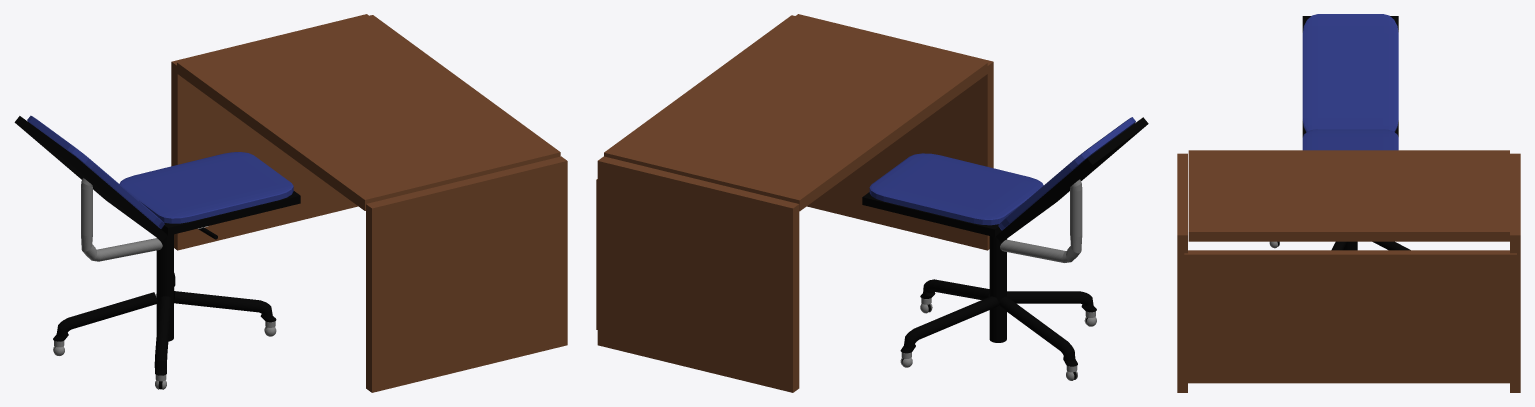
The model's file is NewDeskAndChair.fbx.
3 renders of one model, left to right at view 1: azimuth 30°, elevation 25°; view 2: azimuth 150°, elevation 25°; view 3: azimuth 270°, elevation 25°, orthographic. The views are drawn at different scales.
Visible parts, largest first — view 1: Cube.008, Cube.006, Cube.005, Cube.001, Cube.003, Cylinder.009, Cylinder.006, Cylinder.001, Cube.002, Cube, Cylinder.008, Cylinder.005; view 2: Cube.008, Cube.005, Cube.006, Cube.001, Cube.003, Cylinder.009, Cylinder.008, Cylinder.002, Cube.002, Cube, Cylinder.006, Cylinder.005 (+1 smaller); view 3: Cube.009, Cube.008, Cube.002, Cube.006, Cube.001, Cube.005.
Part boxes in pixels (left/top/right/bottom): Cube.008: left=177, top=15, right=560, bottom=210; Cube.006: left=366, top=156, right=567, bottom=392; Cube.005: left=171, top=14, right=368, bottom=250; Cube.001: left=119, top=152, right=293, bottom=223; Cube.003: left=14, top=116, right=166, bottom=241; Cylinder.009: left=81, top=178, right=162, bottom=261; Cylinder.006: left=53, top=292, right=157, bottom=341; Cylinder.001: left=173, top=291, right=276, bottom=322; Cube.002: left=27, top=115, right=164, bottom=228; Cube: left=161, top=191, right=300, bottom=235; Cylinder.008: left=156, top=234, right=173, bottom=341; Cylinder.005: left=154, top=296, right=171, bottom=375; Cube.008: left=604, top=15, right=987, bottom=211; Cube.005: left=597, top=156, right=799, bottom=392; Cube.006: left=796, top=14, right=993, bottom=250; Cube.001: left=869, top=153, right=1043, bottom=225; Cube.003: left=996, top=117, right=1148, bottom=242; Cylinder.009: left=1000, top=179, right=1082, bottom=262; Cylinder.008: left=989, top=236, right=1006, bottom=342; Cylinder.002: left=900, top=296, right=998, bottom=353; Cube.002: left=998, top=117, right=1135, bottom=230; Cube: left=862, top=192, right=1002, bottom=236; Cylinder.006: left=999, top=296, right=1077, bottom=366; Cylinder.005: left=1006, top=291, right=1096, bottom=312; Cube.009: left=1184, top=250, right=1516, bottom=383; Cube.008: left=1188, top=150, right=1509, bottom=241; Cube.002: left=1302, top=14, right=1398, bottom=131; Cube.006: left=1177, top=153, right=1187, bottom=392; Cube.001: left=1302, top=129, right=1398, bottom=150; Cube.005: left=1510, top=153, right=1520, bottom=392.
Size of the model in its own units: 8059 by 4357 by 6558.
